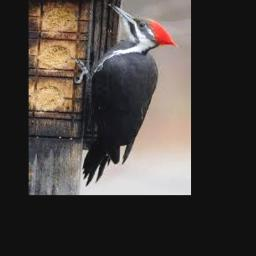Woodpecker: (73, 3, 178, 186)
